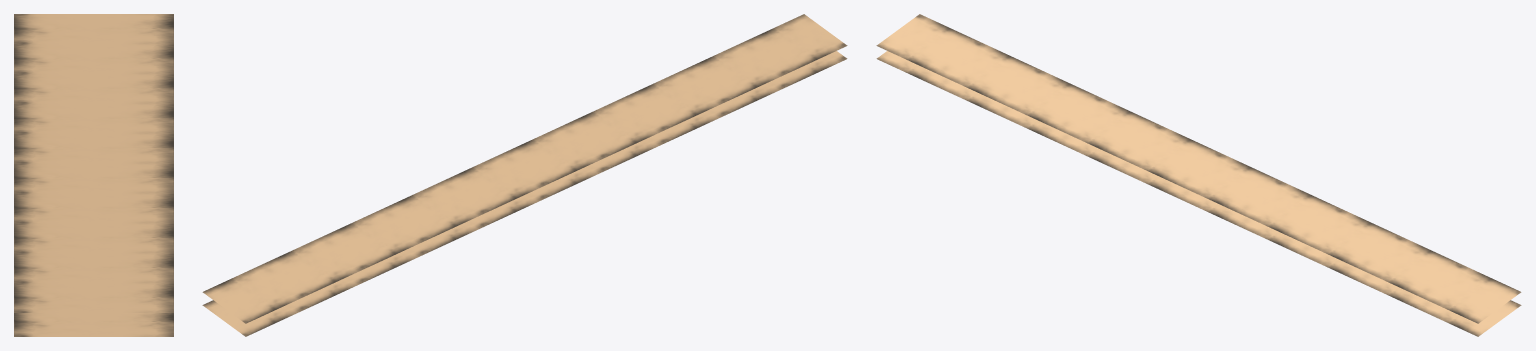
Rendered from CourseSummer_Floor_6.fbx.
3 renders of one model, left to right at view 1: azimuth 90°, elevation 25°; view 2: azimuth 210°, elevation 25°; view 3: azimuth 330°, elevation 25°, orthographic. The views are drawn at different scales.
Parts seen in each view (by area): view 1: polySurface372; view 2: polySurface372; view 3: polySurface372.
Part boxes in pixels (<box>): polySurface372: <box>14,14,173,336</box>; polySurface372: <box>202,14,847,336</box>; polySurface372: <box>876,14,1521,336</box>.
Size of the model in its own units: 48 by 11 by 6.
Materials: 1 (1 with a texture image).
